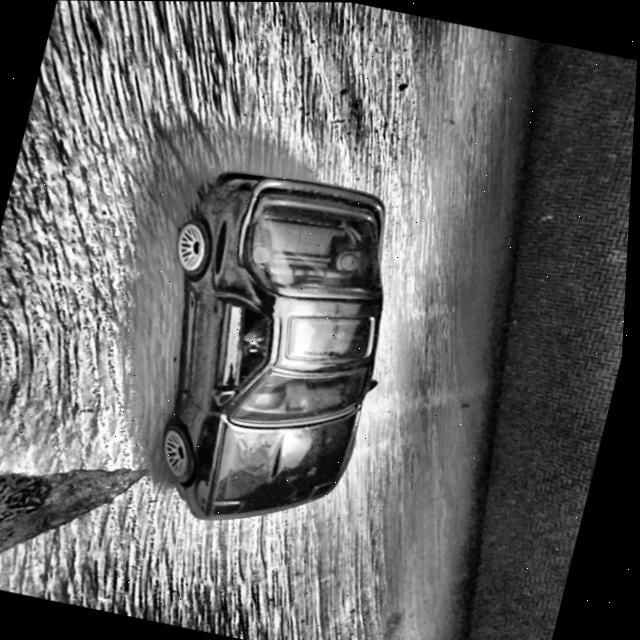car: (114, 157, 427, 548)
